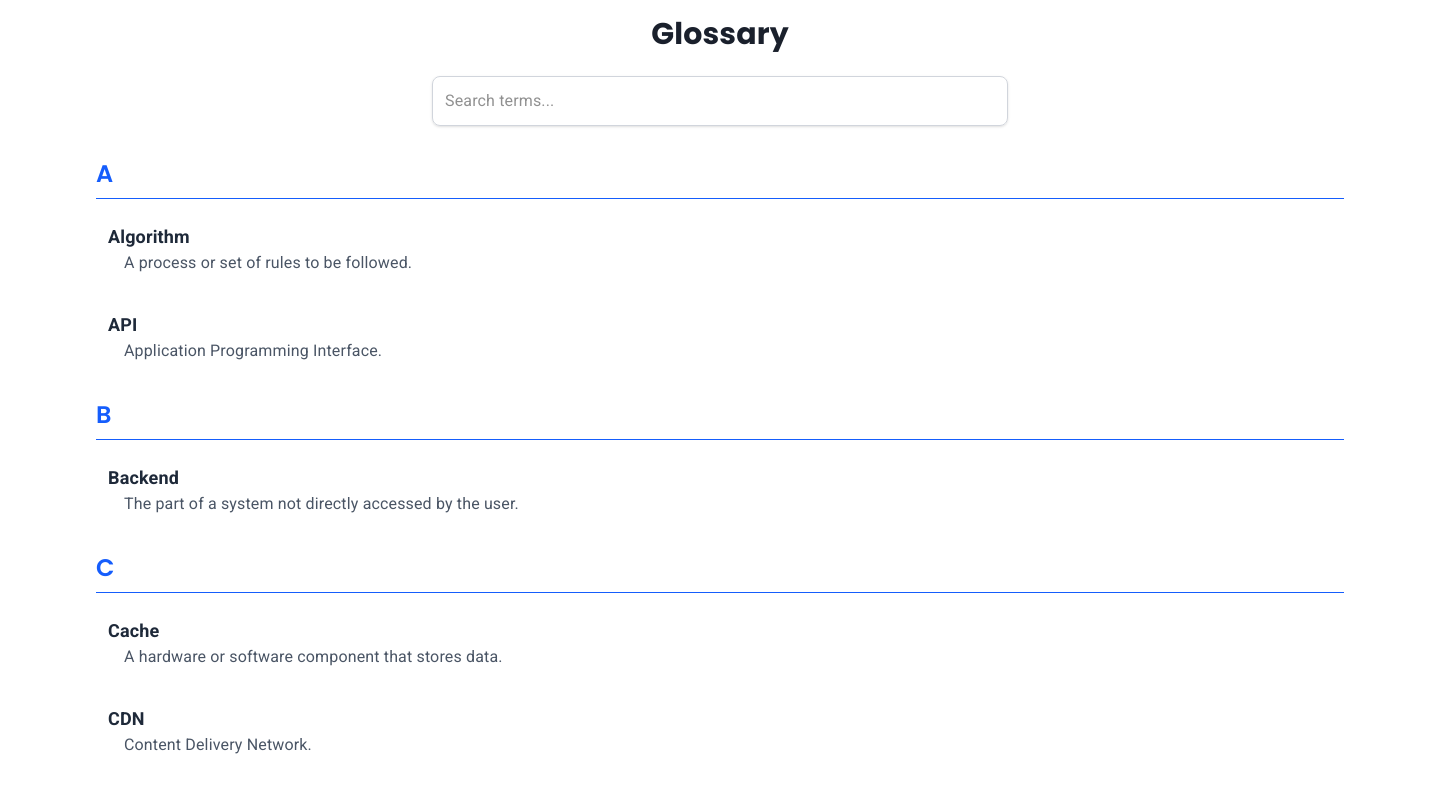
Scenario: GlossaryPage › filters terms based on search input (term name)
The width and height of the screenshot is (1440, 810).
Type "API" into the field with placeholder "Search terms..." at (720, 101), box 432,76 -> 1008,126
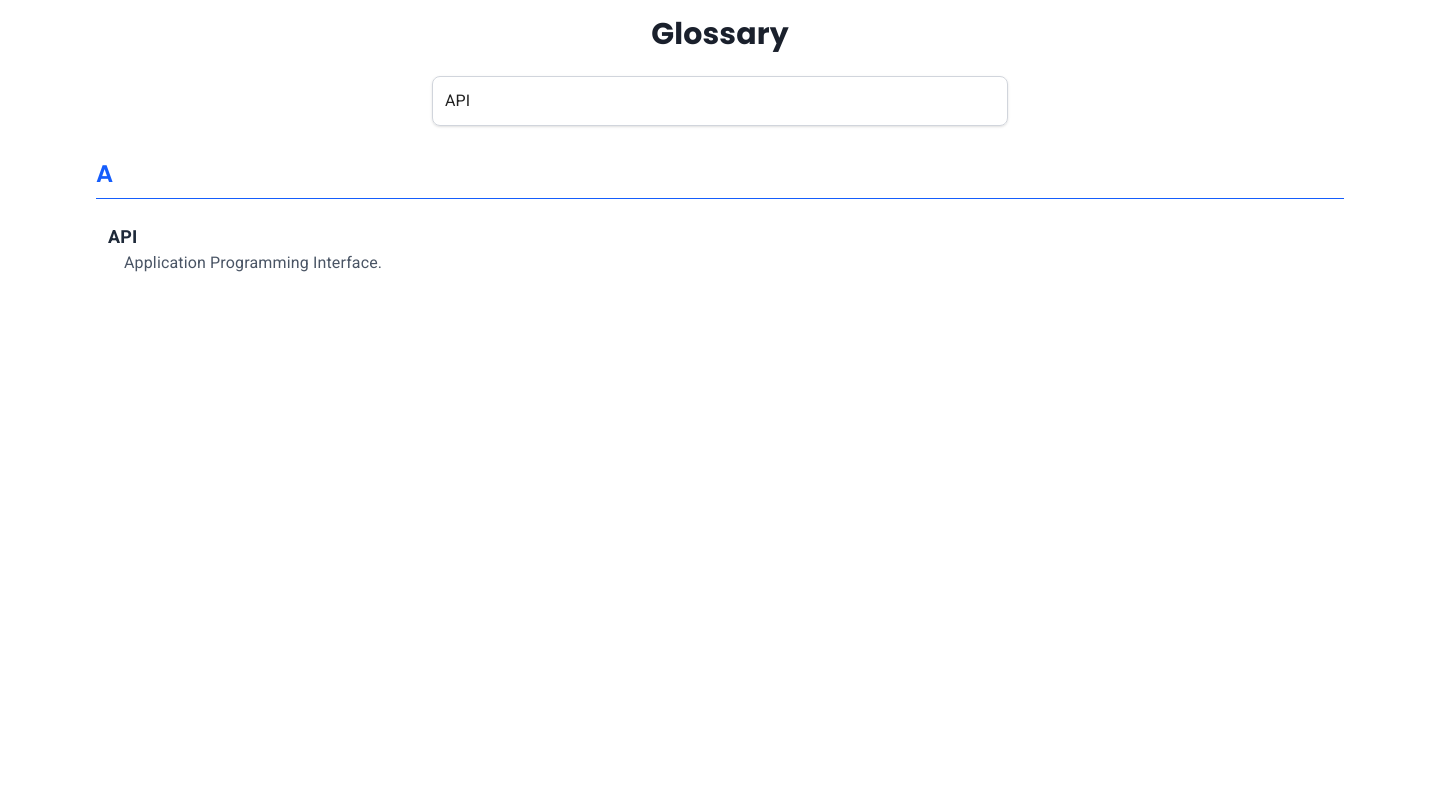
Expected: the text "API" is shown, 108,226 -> 137,247
Expected: the text "Algorithm" is gone
Expected: the text "Backend" is gone
